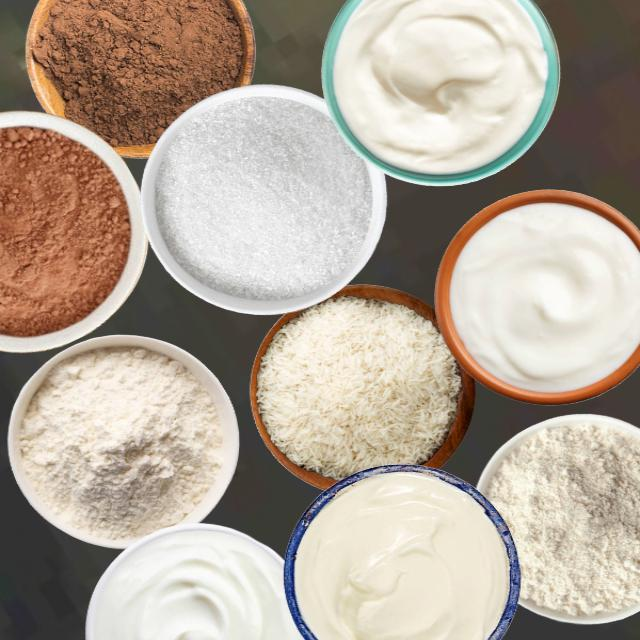Cocoa: (29, 0, 248, 148), (0, 123, 131, 337)
Flour: (16, 345, 223, 542), (485, 421, 639, 617)
Sugar: (154, 94, 372, 300)
